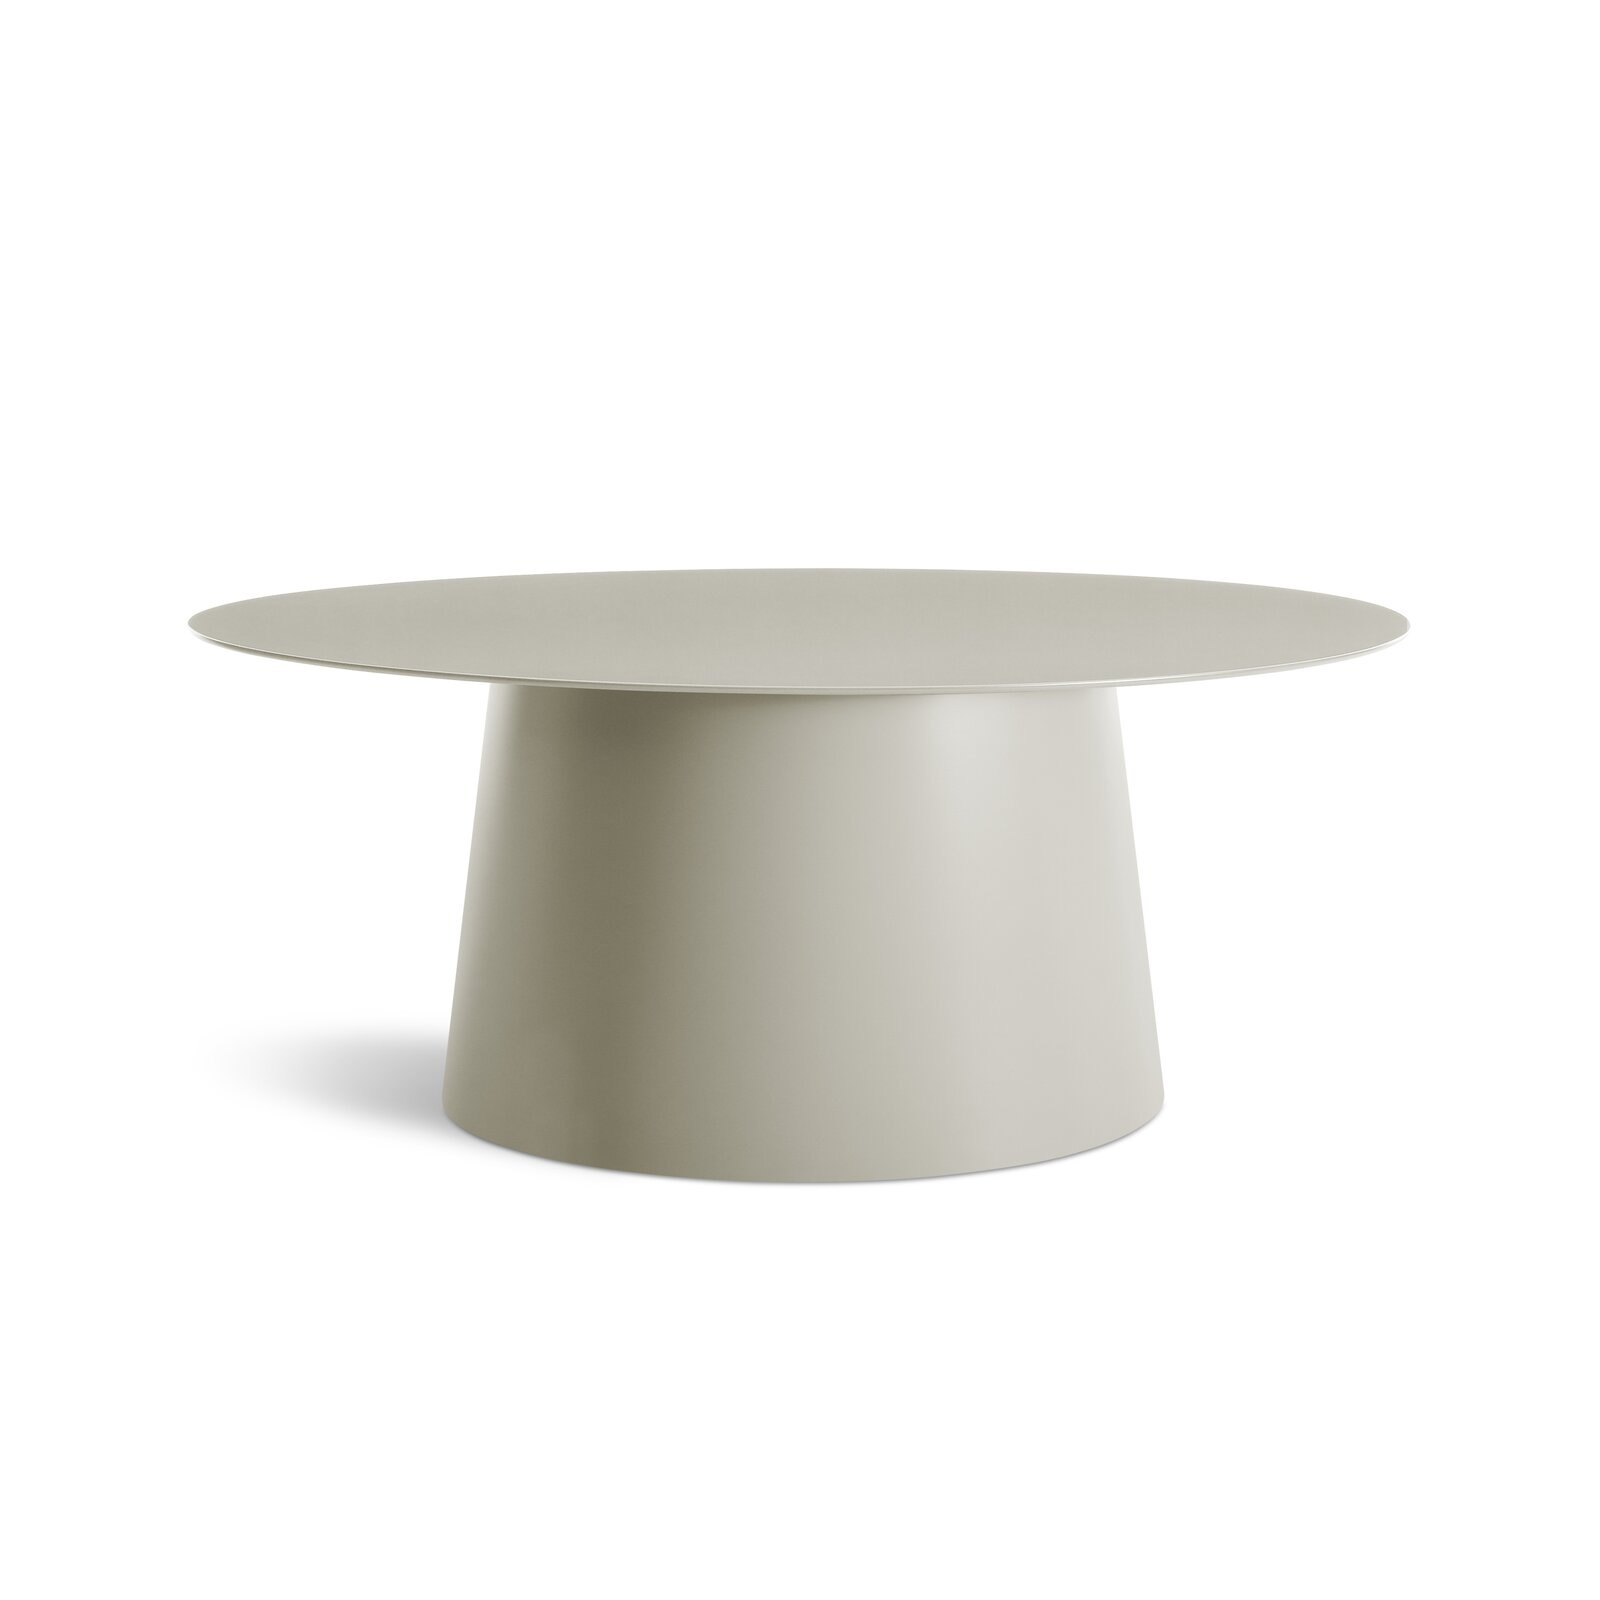obstacle: (192, 568, 1407, 1181)
